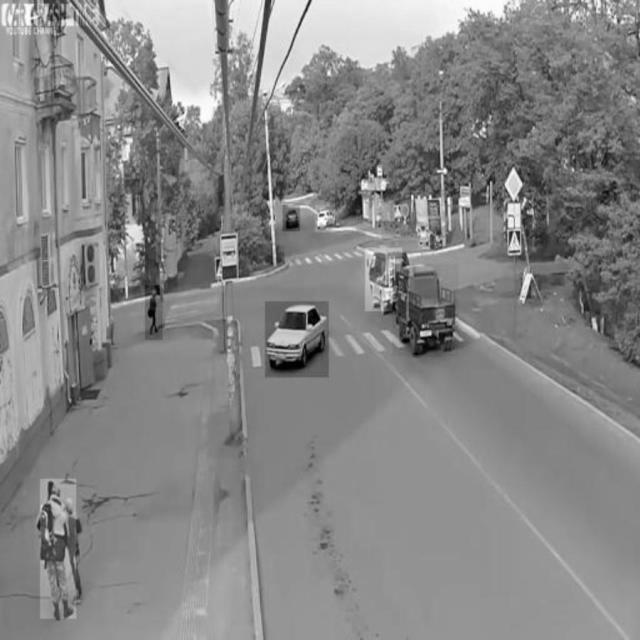person: (41, 479, 77, 619), (145, 286, 162, 341)
vehicle: (393, 265, 459, 357), (265, 301, 329, 377), (366, 248, 403, 312), (315, 206, 335, 233), (283, 206, 300, 232)
